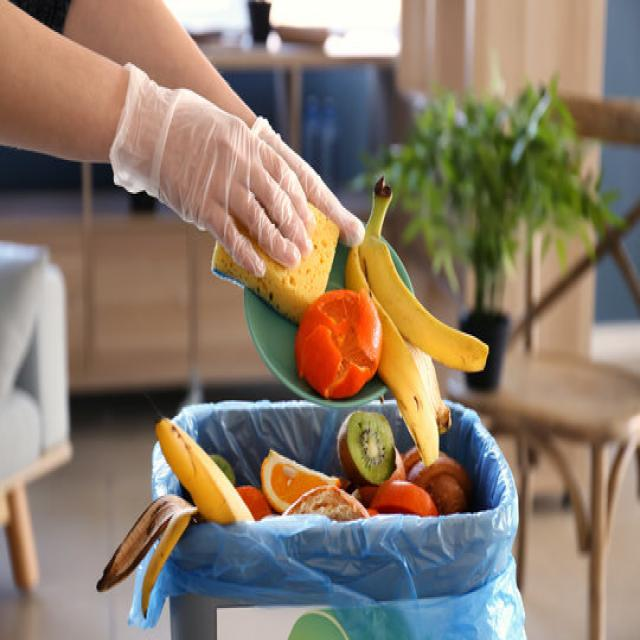trash: (209, 260, 468, 530)
